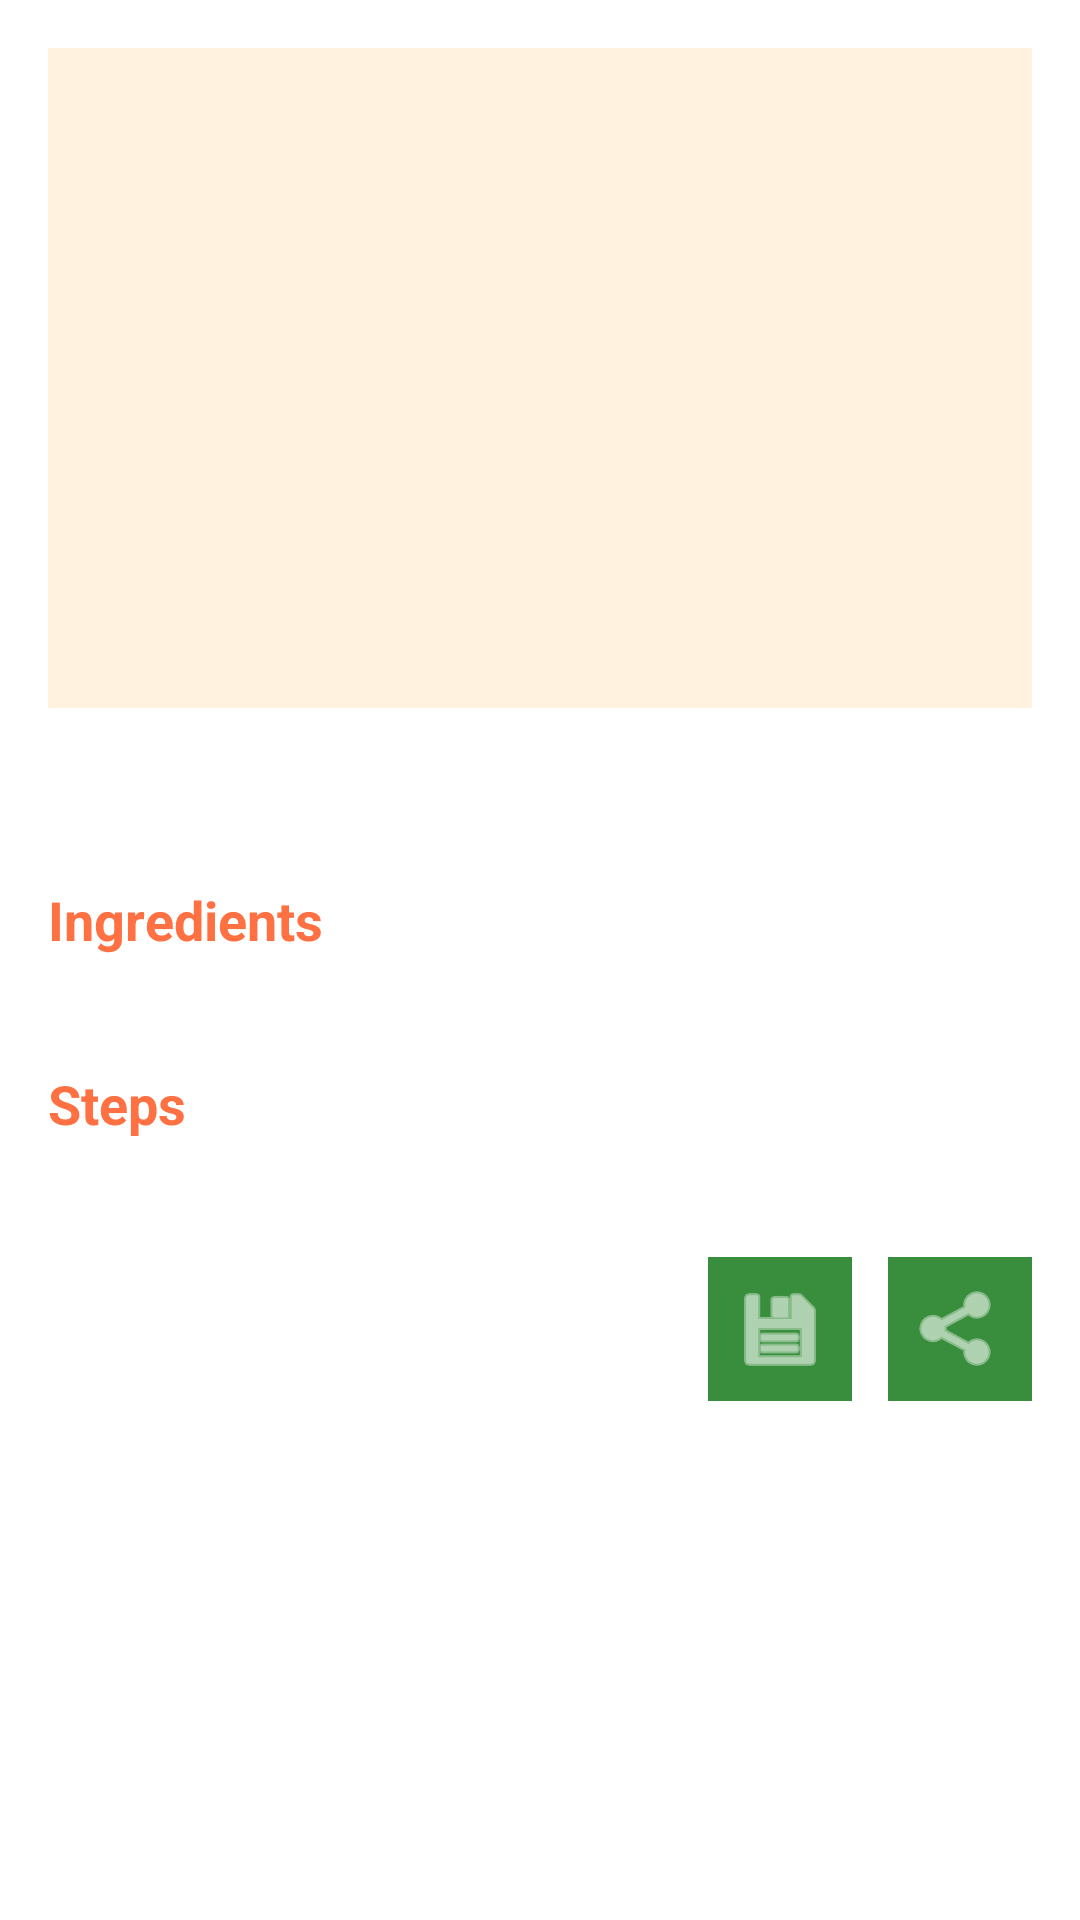

Locate icon controls on the screen. Image size 1080px x 1920px, boxes as (x1=x1, y1=y1, x2=x2, y2=y2).
Save to favorites: (x1=708, y1=1257, x2=852, y2=1401)
Share: (x1=888, y1=1257, x2=1032, y2=1401)
